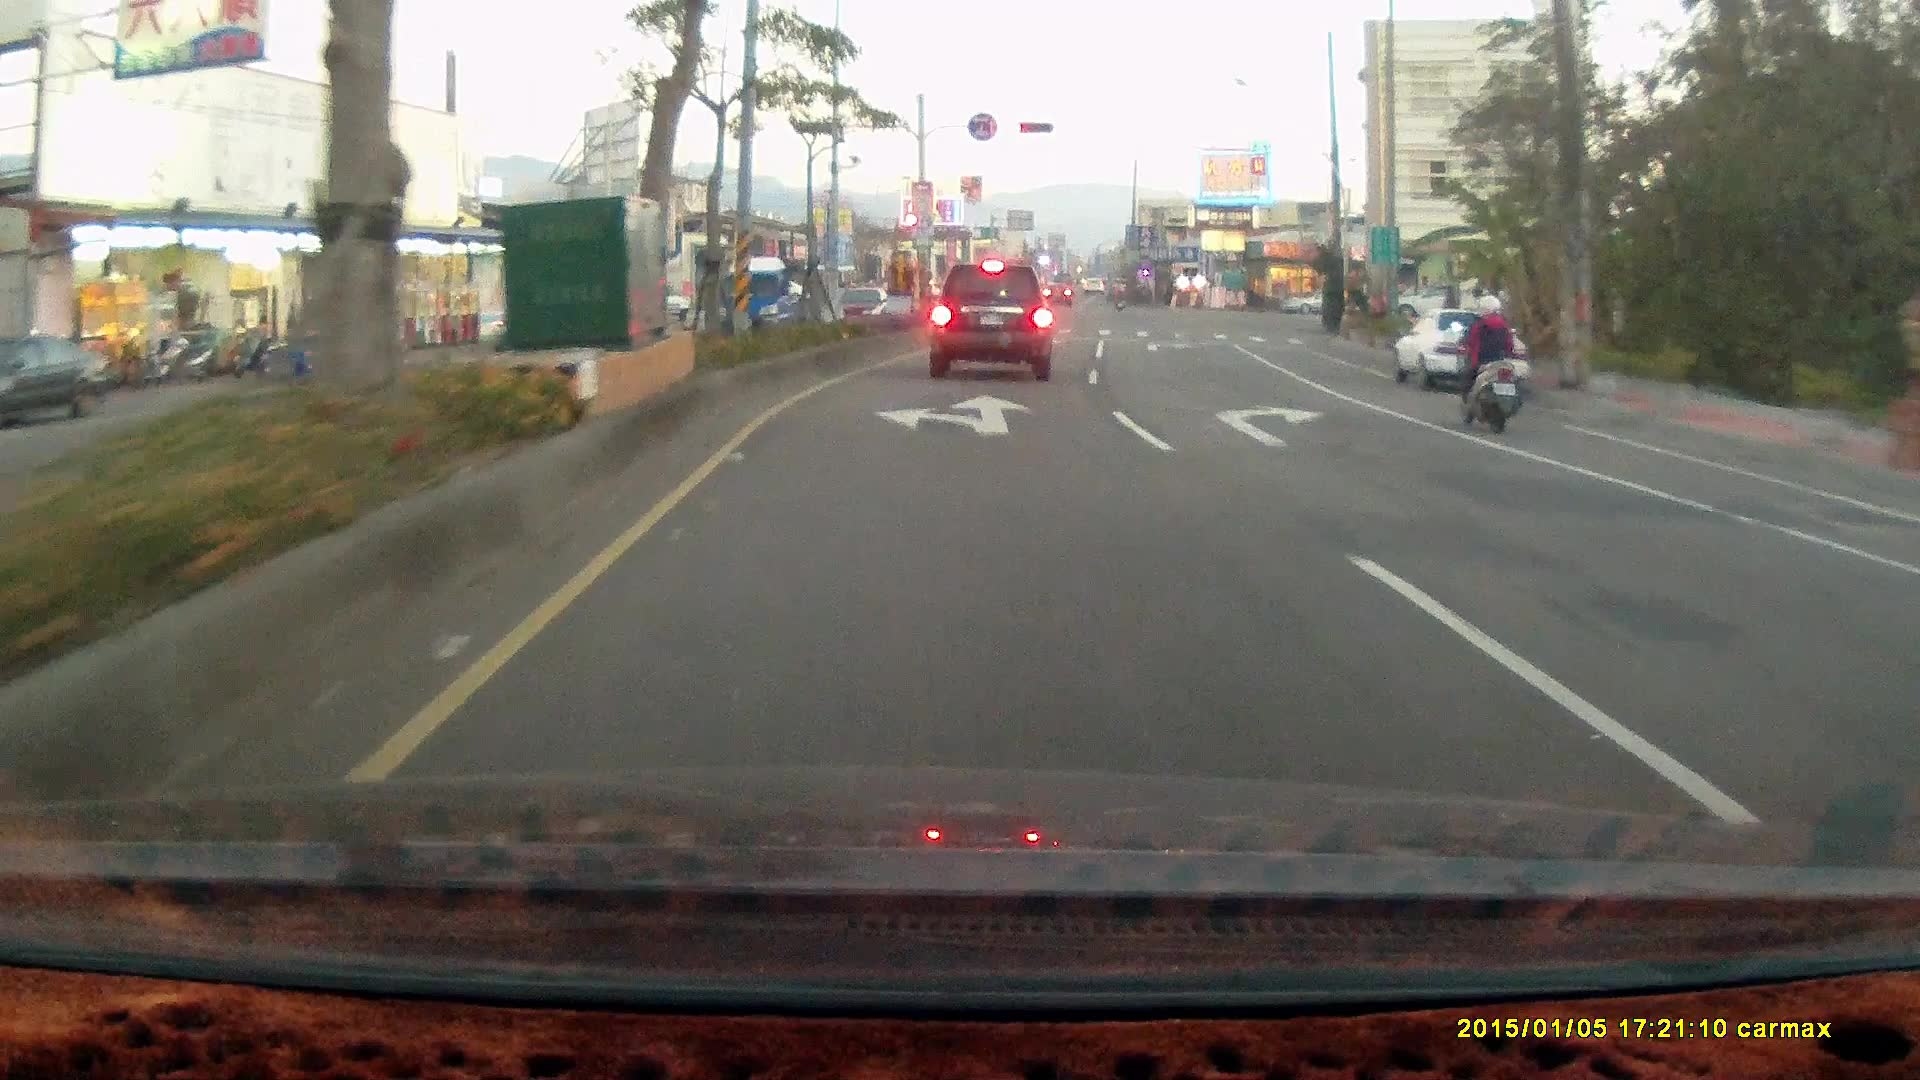rider: (1448, 293, 1525, 434)
vehicle: (927, 262, 1052, 381), (1390, 307, 1531, 394), (1397, 308, 1539, 391), (262, 309, 407, 385), (1896, 493, 1920, 836), (1883, 528, 1920, 690), (1389, 281, 1481, 321), (1280, 287, 1347, 315)
